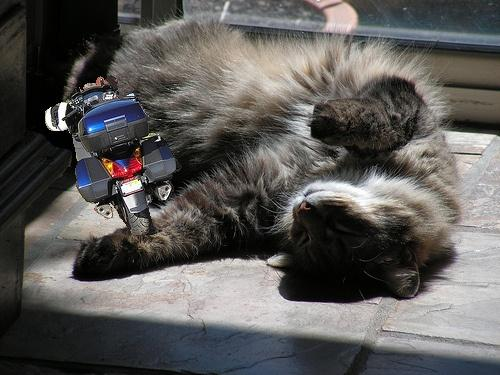tampered: (46, 76, 182, 235)
